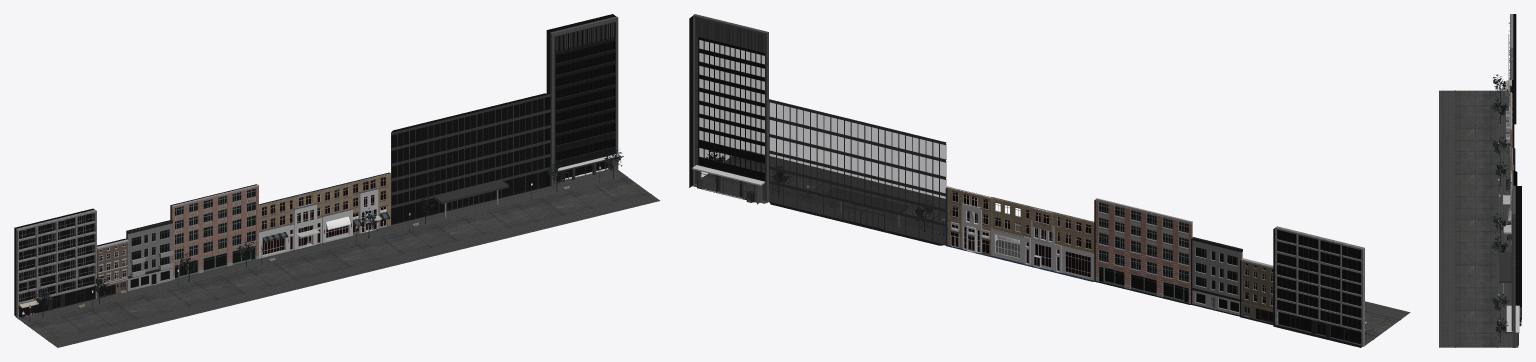
File: ReplaceCGT_Facades03.fbx
3 views of the same model, side by side, from view 1: azimuth 30°, elevation 25°; view 2: azimuth 150°, elevation 25°; view 3: azimuth 270°, elevation 25° (orthographic). The views are drawn at different scales.
Parts seen in each view (by area): view 1: Road, wP_Facade_F, wP_Facade_G, wP_Facade_A, wP_Facade_E, wP_Facade_D, wP_Facade_C, wP_Facade_B; view 2: wP_Facade_F, wP_Facade_G, wP_Facade_A, wP_Facade_E, Road, wP_Facade_D, wP_Facade_C, wP_Facade_B; view 3: Road, wP_Facade_G, wP_Facade_A, wP_Facade_F, wP_Facade_E, wP_Facade_D, wP_Facade_C, wP_Tree_002, wP_Tree_003, wP_Tree_007, wP_Tree_001, wP_Tree_005 (+3 smaller).
Boxes of the visible parts, x1,y1,x2,y2 form: Road: (16, 169, 660, 347); wP_Facade_F: (391, 93, 551, 225); wP_Facade_G: (546, 14, 621, 186); wP_Facade_A: (14, 208, 96, 317); wP_Facade_E: (258, 172, 390, 258); wP_Facade_D: (170, 184, 258, 279); wP_Facade_C: (126, 220, 173, 291); wP_Facade_B: (96, 238, 128, 298); wP_Facade_F: (769, 99, 946, 245); wP_Facade_G: (689, 14, 769, 204); wP_Facade_A: (1273, 226, 1364, 347); wP_Facade_E: (945, 186, 1094, 281); Road: (692, 149, 1410, 346); wP_Facade_D: (1094, 198, 1192, 304); wP_Facade_C: (1191, 237, 1242, 316); wP_Facade_B: (1240, 258, 1273, 324); Road: (1439, 90, 1518, 347); wP_Facade_G: (1505, 185, 1521, 347); wP_Facade_A: (1508, 14, 1516, 124); wP_Facade_F: (1499, 170, 1517, 293); wP_Facade_E: (1503, 148, 1515, 244); wP_Facade_D: (1510, 92, 1514, 169); wP_Facade_C: (1505, 85, 1513, 156); wP_Tree_002: (1492, 97, 1507, 123); wP_Tree_003: (1492, 136, 1509, 161); wP_Tree_007: (1492, 293, 1509, 318); wP_Tree_001: (1492, 74, 1507, 99); wP_Tree_005: (1492, 213, 1507, 238).
Size of the model in its own units: 19800 by 4803 by 2690.
Materials: 79 (11 with a texture image).
